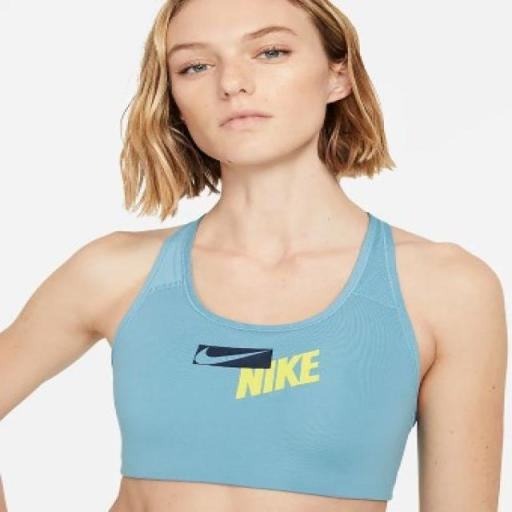Nike: (193, 342, 268, 365)
